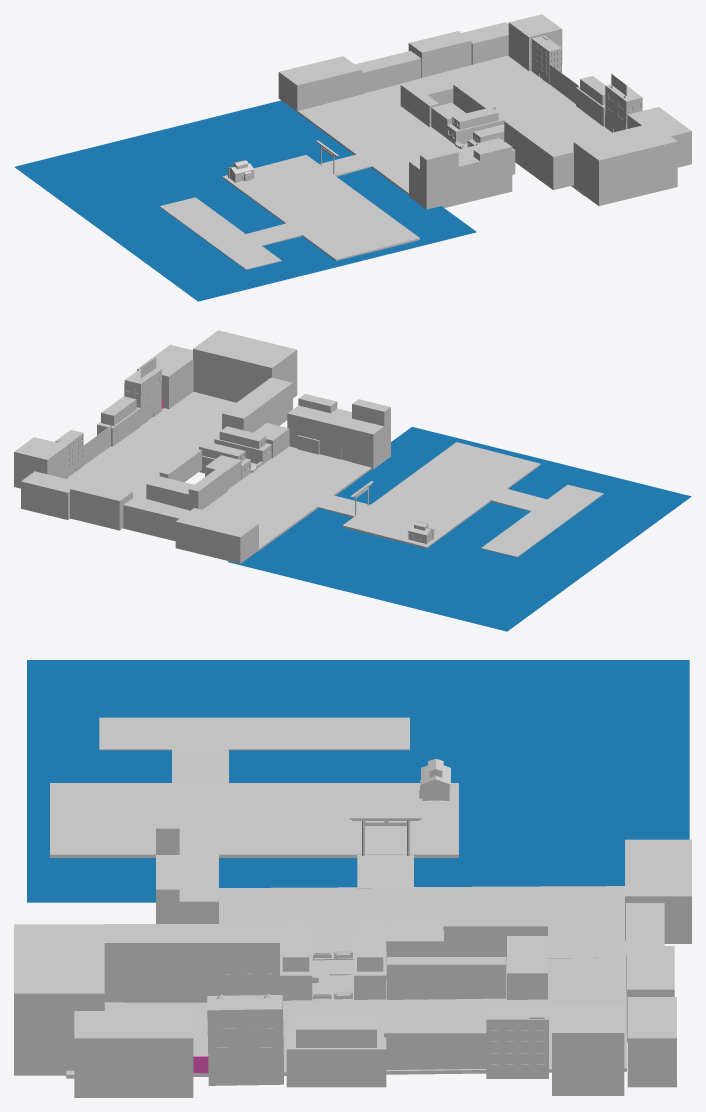
File: Map 1.fbx
The picture shows the model from 3 angles, top to bottom: view 1: azimuth 30°, elevation 25°; view 2: azimuth 150°, elevation 25°; view 3: azimuth 270°, elevation 25°; orthographic projection. The views are drawn at different scales.
Visible parts, largest first — view 1: Plane, Cube.002, Cube.004, Cube.030, Cube.006, Cube.021, Cube.027, Cube.031, Cube, Cube.025, Cube.026, Cube.028 (+16 smaller); view 2: Plane, Cube.002, Cube.004, Cube.006, Cube.021, Cube.030, Cube.027, Cube, Cube.031, Cube.025, Cube.024, Cube.028 (+16 smaller); view 3: Plane, Cube.002, Cube.004, Cube.031, Cube.030, Cube.023, Cube, Cube.006, Cube.017, Cube.021, Cube.015, Cube.028 (+18 smaller).
Part boxes in pixels (<box>): Plane: <box>14,100,476,301</box>; Cube.002: <box>222,155,419,260</box>; Cube.004: <box>297,91,460,194</box>; Cube.030: <box>573,123,677,205</box>; Cube.006: <box>429,55,611,195</box>; Cube.021: <box>409,141,512,209</box>; Cube.027: <box>278,56,361,111</box>; Cube.031: <box>504,116,573,189</box>; Cube: <box>159,197,281,269</box>; Cube.025: <box>408,31,471,77</box>; Cube.026: <box>355,51,421,93</box>; Cube.028: <box>508,14,562,71</box>; Plane: <box>228,427,691,631</box>; Cube.002: <box>342,442,540,548</box>; Cube.004: <box>202,446,371,551</box>; Cube.006: <box>67,391,235,500</box>; Cube.021: <box>287,394,390,469</box>; Cube.030: <box>193,330,297,402</box>; Cube.027: <box>175,508,258,563</box>; Cube: <box>481,484,603,557</box>; Cube.031: <box>222,377,292,432</box>; Cube.025: <box>70,479,132,530</box>; Cube.024: <box>21,471,78,519</box>; Cube.028: <box>14,437,67,488</box>; Plane: <box>27,660,689,902</box>; Cube.002: <box>50,783,458,857</box>; Cube.004: <box>219,886,625,960</box>; Cube.031: <box>104,924,279,1002</box>; Cube.030: <box>14,924,104,1075</box>; Cube.023: <box>74,1010,193,1097</box>; Cube: <box>99,717,409,750</box>; Cube.006: <box>66,996,626,1078</box>; Cube.017: <box>207,973,283,1085</box>; Cube.021: <box>156,800,222,923</box>; Cube.015: <box>286,1018,386,1087</box>; Cube.028: <box>552,1004,624,1095</box>.
Size of the model in its own units: 319225 by 37460 by 204317.
